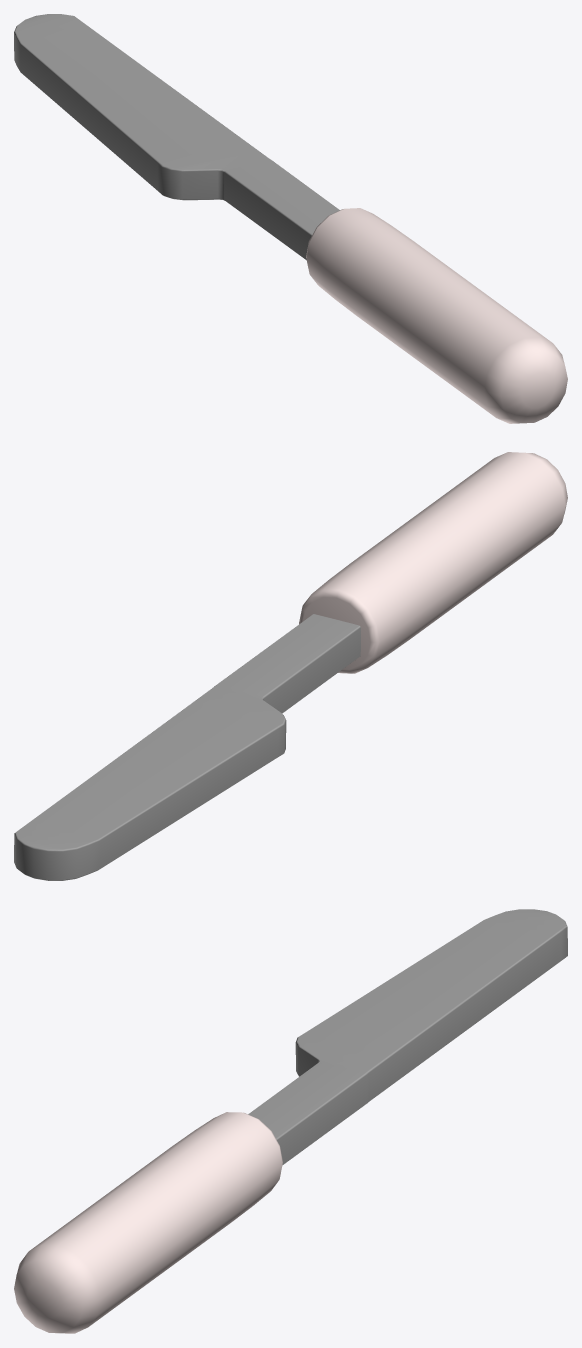
The model's file is Knife.fbx.
The picture shows the model from 3 angles, top to bottom: view 1: azimuth 30°, elevation 25°; view 2: azimuth 150°, elevation 25°; view 3: azimuth 330°, elevation 25°; orthographic projection. The views are drawn at different scales.
Parts seen in each view (by area): view 1: Knife; view 2: Knife; view 3: Knife.
Boxes of the visible parts, box(x1,y1,x2,y2) form: Knife: box(14, 14, 567, 423); Knife: box(14, 452, 567, 880); Knife: box(14, 909, 567, 1333).
Bounding box in the file's own units: 3.26 × 2.51 × 26.54.
